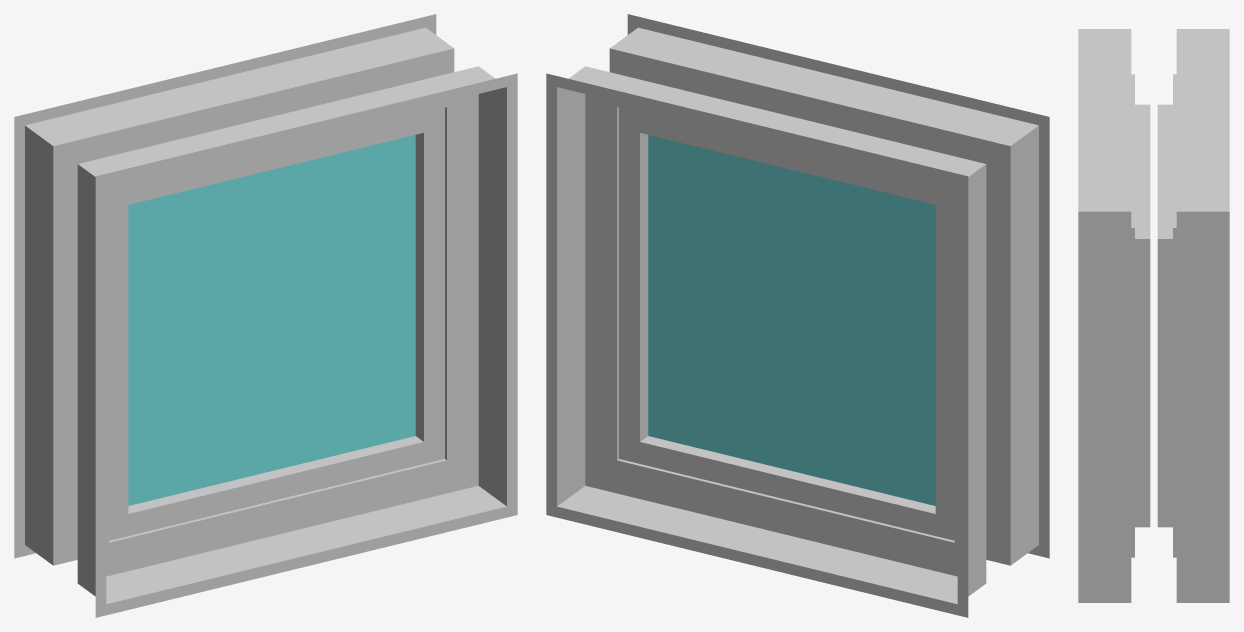
File: MESH_ENV(Janela_03_0,6x0,6).fbx
3 views of the same model, side by side, from view 1: azimuth 30°, elevation 25°; view 2: azimuth 150°, elevation 25°; view 3: azimuth 270°, elevation 25° (orthographic). The views are drawn at different scales.
Visible parts, largest first — view 1: MESH_ENV(Janela_03_0,6x0,6)_LOD0; view 2: MESH_ENV(Janela_03_0,6x0,6)_LOD0; view 3: MESH_ENV(Janela_03_0,6x0,6)_LOD0.
Part boxes in pixels (left/top/right/bottom): MESH_ENV(Janela_03_0,6x0,6)_LOD0: left=14, top=14, right=517, bottom=617; MESH_ENV(Janela_03_0,6x0,6)_LOD0: left=546, top=14, right=1049, bottom=617; MESH_ENV(Janela_03_0,6x0,6)_LOD0: left=1078, top=29, right=1229, bottom=602.
Size of the model in its own units: 60 by 60 by 20.
